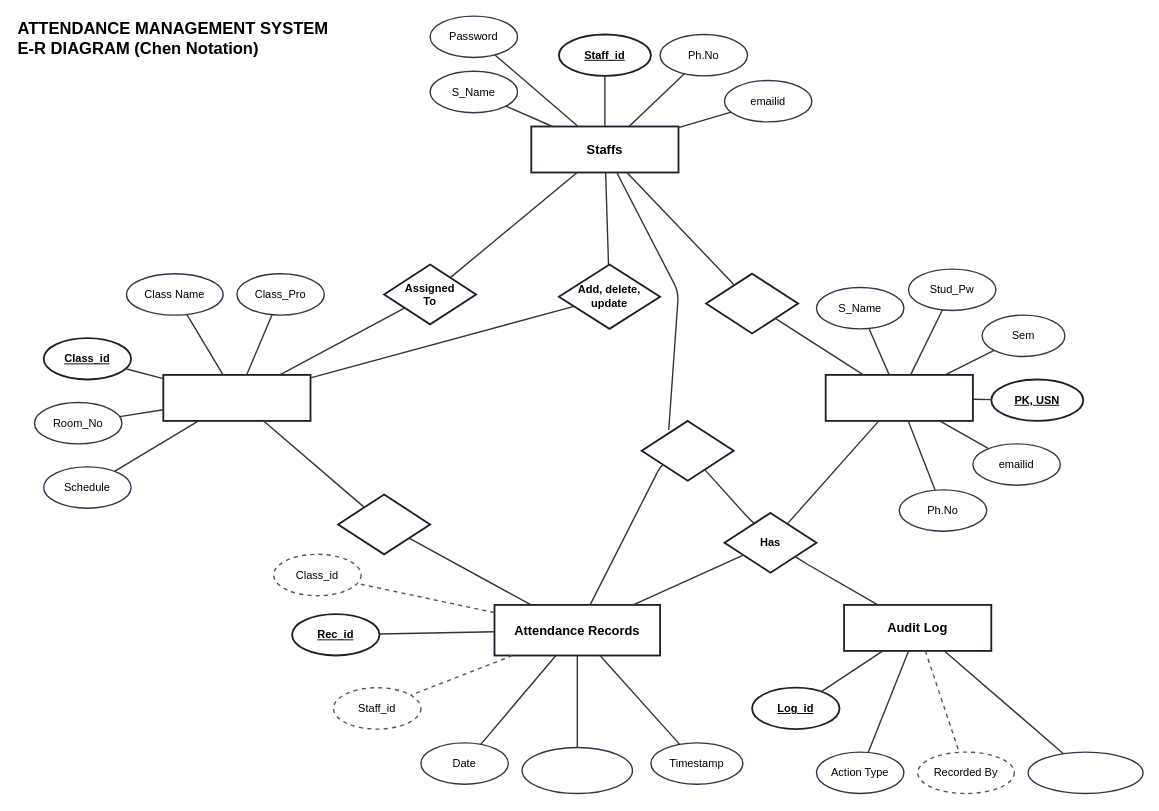
Some shapes in this 1159 by 811 pixel diagram are drawn without their labels. The shapes that lost their labels are listed below. From the top down, each one's centre as x and y in pixels, then its label:
pixel 752 303: View Students
pixel 236 397: Classes
pixel 898 397: Students
pixel 687 450: Creates Audit
pixel 384 524: Logs
pixel 577 770: Status (e.g., 'Absent')
pixel 1085 772: Action Timestamp
